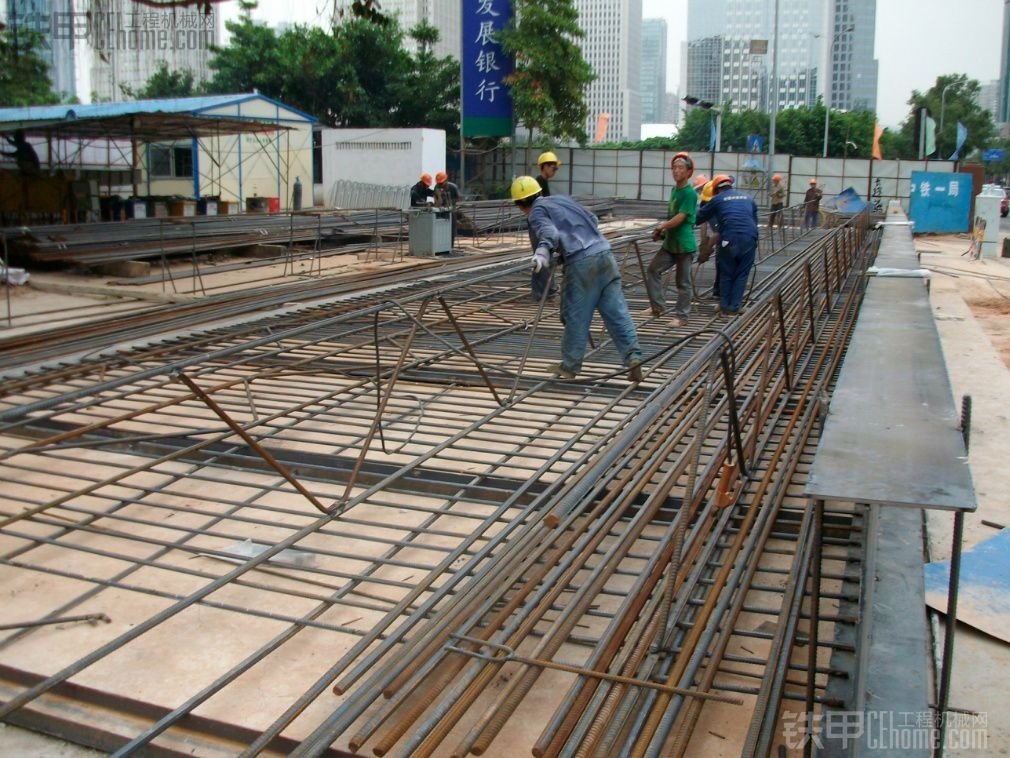red: (668, 150, 694, 181), (710, 176, 733, 194), (418, 173, 432, 189), (435, 170, 447, 186), (770, 173, 782, 186), (809, 178, 817, 188)
yellow: (511, 175, 542, 209), (536, 149, 559, 178)
